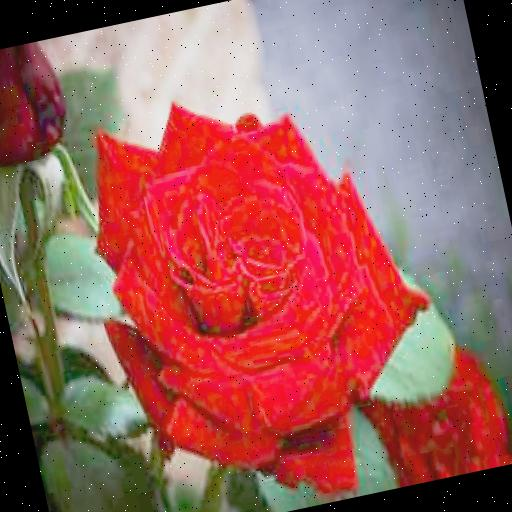rose: (81, 55, 464, 512)
